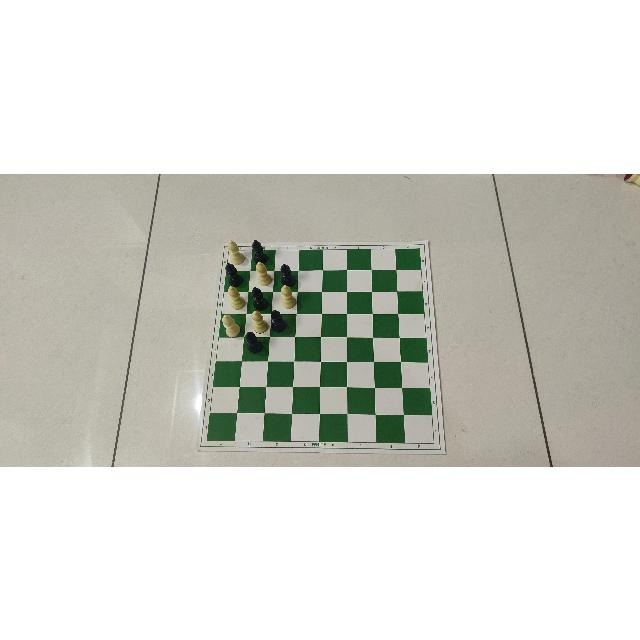black-bishop: (226, 262, 244, 287), (252, 286, 270, 310), (251, 238, 268, 263), (245, 330, 263, 353), (280, 262, 295, 286), (271, 309, 286, 332)
white-bishop: (227, 284, 247, 309), (221, 313, 240, 336), (254, 260, 272, 284), (227, 238, 244, 263), (251, 308, 269, 331), (280, 282, 295, 307)
